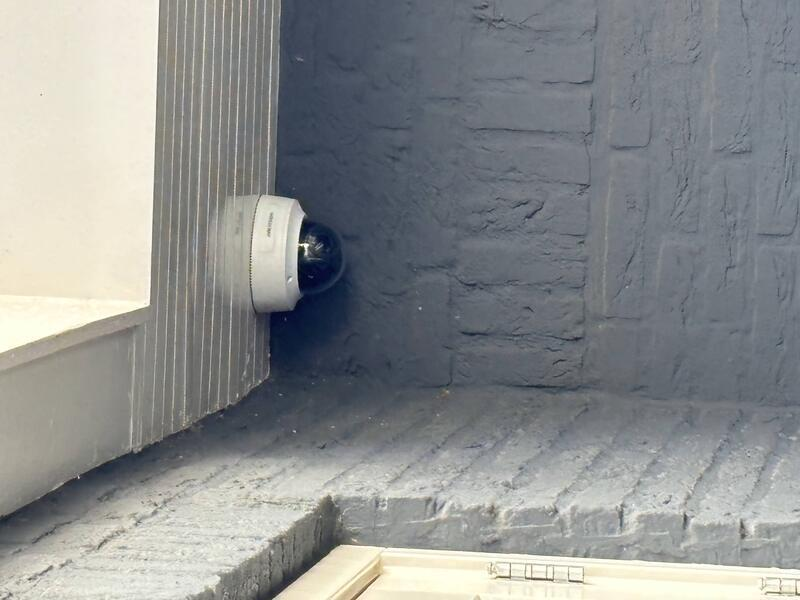dome: (269, 239, 411, 349)
